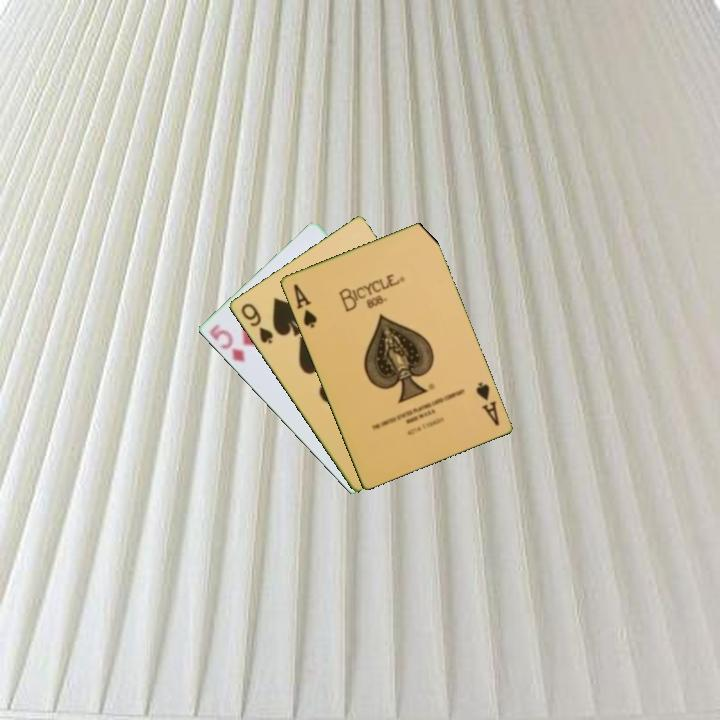5d: (205, 320, 247, 365)
9s: (237, 299, 276, 347)
As: (289, 280, 319, 331), (472, 378, 502, 429)
